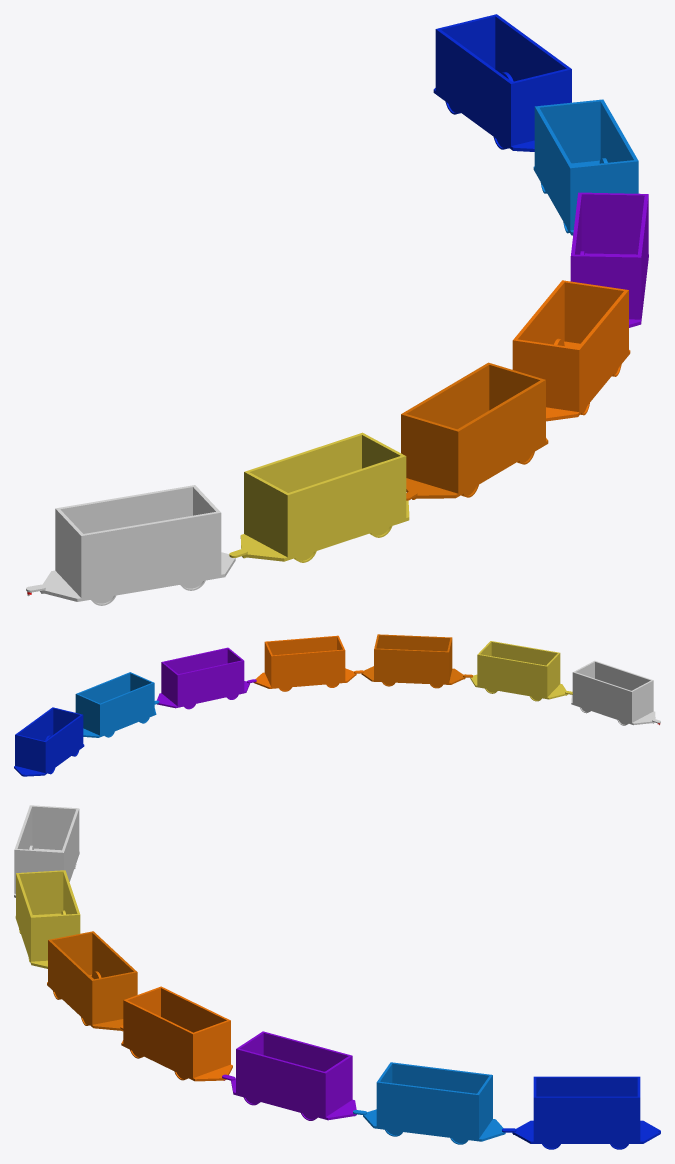
Rendered from Train_tail.fbx.
The picture shows the model from 3 angles, top to bottom: view 1: azimuth 30°, elevation 25°; view 2: azimuth 150°, elevation 25°; view 3: azimuth 270°, elevation 25°; orthographic projection. The views are drawn at different scales.
Visible parts, largest first — view 1: Train_tail; view 2: Train_tail; view 3: Train_tail.
Boxes of the visible parts, x1,y1,x2,y2 form: Train_tail: (26,14,648,605); Train_tail: (14,634,660,776); Train_tail: (14,805,660,1149).
Size of the model in its own units: 166 by 13.33 by 149.
